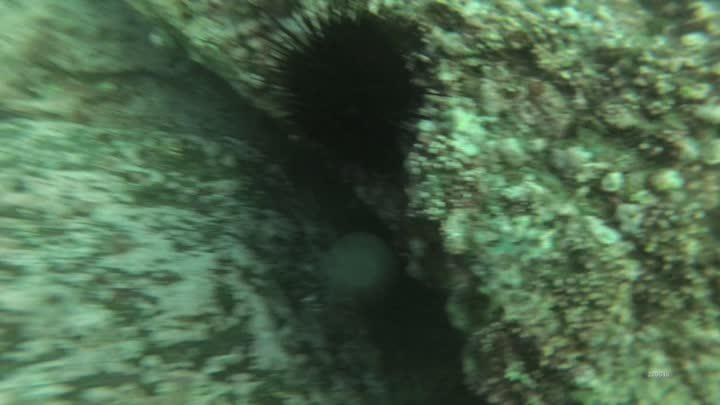urchin: (249, 5, 426, 171)
